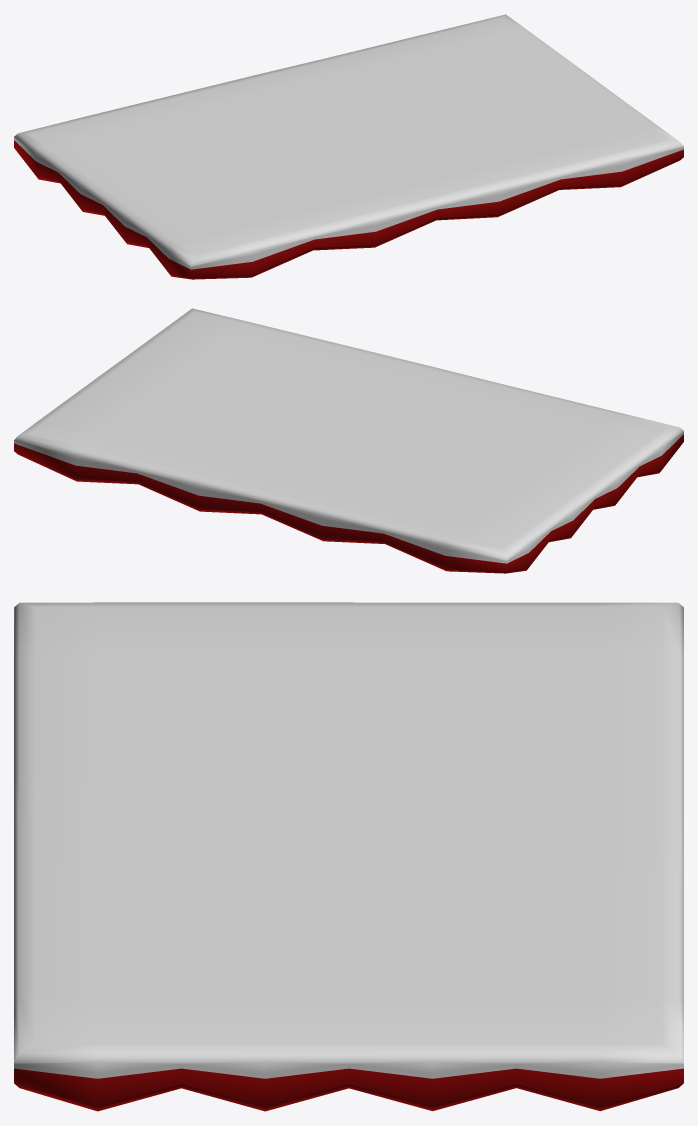
File: main_grass.fbx
The picture shows the model from 3 angles, top to bottom: view 1: azimuth 30°, elevation 25°; view 2: azimuth 150°, elevation 25°; view 3: azimuth 270°, elevation 25°; orthographic projection. The views are drawn at different scales.
Parts seen in each view (by area): view 1: Box015; view 2: Box015; view 3: Box015.
Part boxes in pixels (left/top/right/bottom): Box015: left=14, top=14, right=683, bottom=279; Box015: left=14, top=308, right=683, bottom=573; Box015: left=14, top=602, right=683, bottom=1111.
Bounding box in the file's own units: 1455 × 91.03 × 906.
